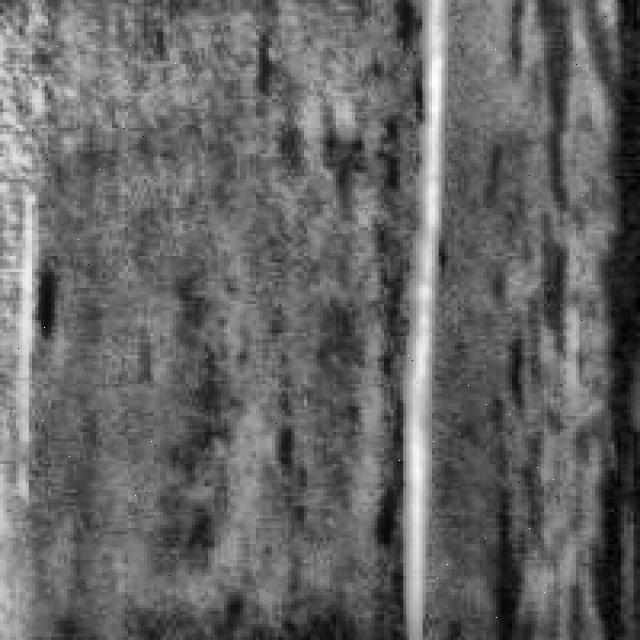Inclusion: (390, 0, 454, 630)
Patches: (525, 0, 637, 637)
